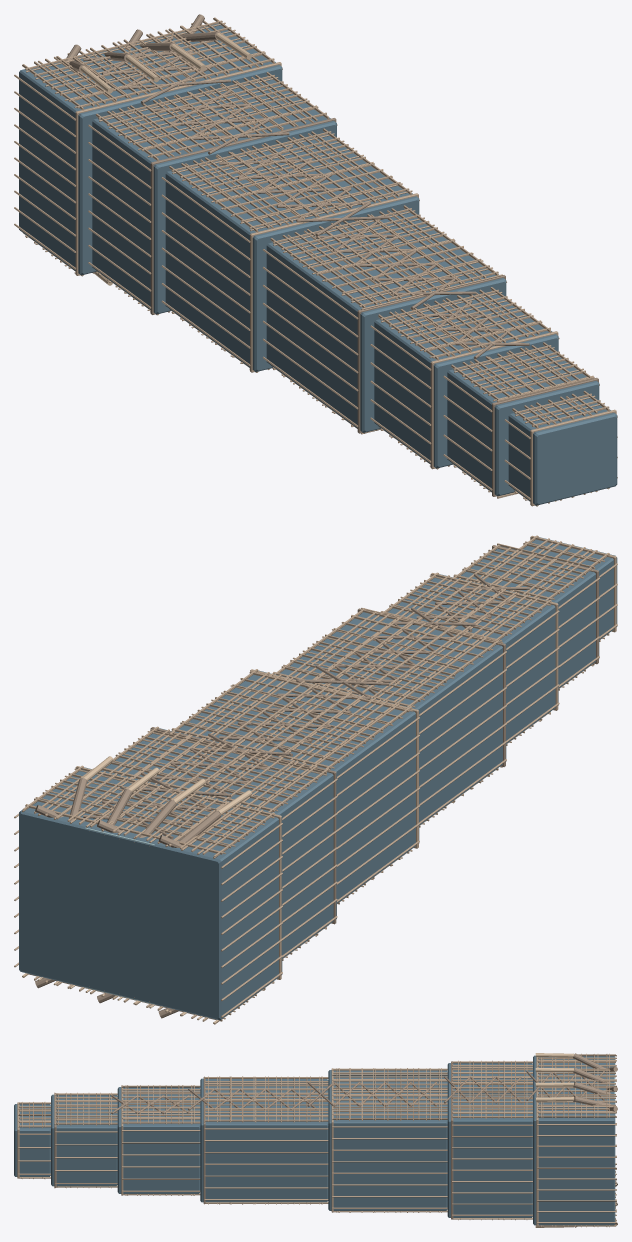
File: jpmorgan-270-park.glb
The picture shows the model from 3 angles, top to bottom: view 1: azimuth 30°, elevation 25°; view 2: azimuth 150°, elevation 25°; view 3: azimuth 270°, elevation 25°; orthographic projection. The views are drawn at different scales.
Parts seen in each view (by area): view 1: Glass tier 2, Glass tier 3, Glass tier 0, Glass tier 1, Glass tier 4, Glass tier 6, Glass tier 5, Cornice tier 0, Cornice tier 1, Cornice tier 2, Cornice tier 3, Cornice tier 4; view 2: Glass tier 0, Glass tier 2, Glass tier 3, Glass tier 1, Glass tier 4, Glass tier 5, Glass tier 6, Cornice tier 1; view 3: Glass tier 2, Glass tier 3, Glass tier 0, Glass tier 1, Glass tier 4, Glass tier 5, Glass tier 6, Cornice tier 0, Cornice tier 2, Cornice tier 1, Facade mullion panel 1 202_11, Facade mullion panel 1 202_2 (+4 smaller).
Boxes of the visible parts, x1=… form: Glass tier 2: x1=165, y1=134, x2=419, y2=371; Glass tier 3: x1=266, y1=211, x2=506, y2=432; Glass tier 0: x1=19, y1=23, x2=282, y2=275; Glass tier 1: x1=92, y1=78, x2=336, y2=314; Glass tier 4: x1=374, y1=293, x2=558, y2=468; Glass tier 6: x1=508, y1=396, x2=617, y2=505; Glass tier 5: x1=447, y1=348, x2=599, y2=496; Cornice tier 0: x1=75, y1=62, x2=281, y2=275; Cornice tier 1: x1=150, y1=118, x2=336, y2=314; Cornice tier 2: x1=250, y1=193, x2=418, y2=372; Cornice tier 3: x1=357, y1=275, x2=505, y2=433; Cornice tier 4: x1=430, y1=331, x2=558, y2=469; Glass tier 0: x1=19, y1=767, x2=282, y2=1020; Glass tier 2: x1=175, y1=670, x2=419, y2=903; Glass tier 3: x1=280, y1=612, x2=506, y2=825; Glass tier 1: x1=101, y1=728, x2=336, y2=958; Glass tier 4: x1=388, y1=574, x2=558, y2=743; Glass tier 5: x1=457, y1=546, x2=599, y2=688; Glass tier 6: x1=523, y1=537, x2=617, y2=639; Cornice tier 1: x1=150, y1=727, x2=336, y2=924; Glass tier 2: x1=328, y1=1070, x2=447, y2=1210; Glass tier 3: x1=200, y1=1078, x2=328, y2=1202; Glass tier 0: x1=533, y1=1055, x2=615, y2=1225; Glass tier 1: x1=447, y1=1063, x2=532, y2=1217; Glass tier 4: x1=117, y1=1087, x2=200, y2=1193; Glass tier 5: x1=51, y1=1094, x2=117, y2=1186; Glass tier 6: x1=14, y1=1104, x2=50, y2=1176; Cornice tier 0: x1=536, y1=1057, x2=538, y2=1226; Cornice tier 2: x1=331, y1=1068, x2=333, y2=1212; Cornice tier 1: x1=451, y1=1061, x2=453, y2=1219; Facade mullion panel 1 202_11: x1=205, y1=1119, x2=328, y2=1121; Facade mullion panel 1 202_2: x1=205, y1=1084, x2=328, y2=1086.
Bounding box in the file's own units: 111 × 102 × 425.
